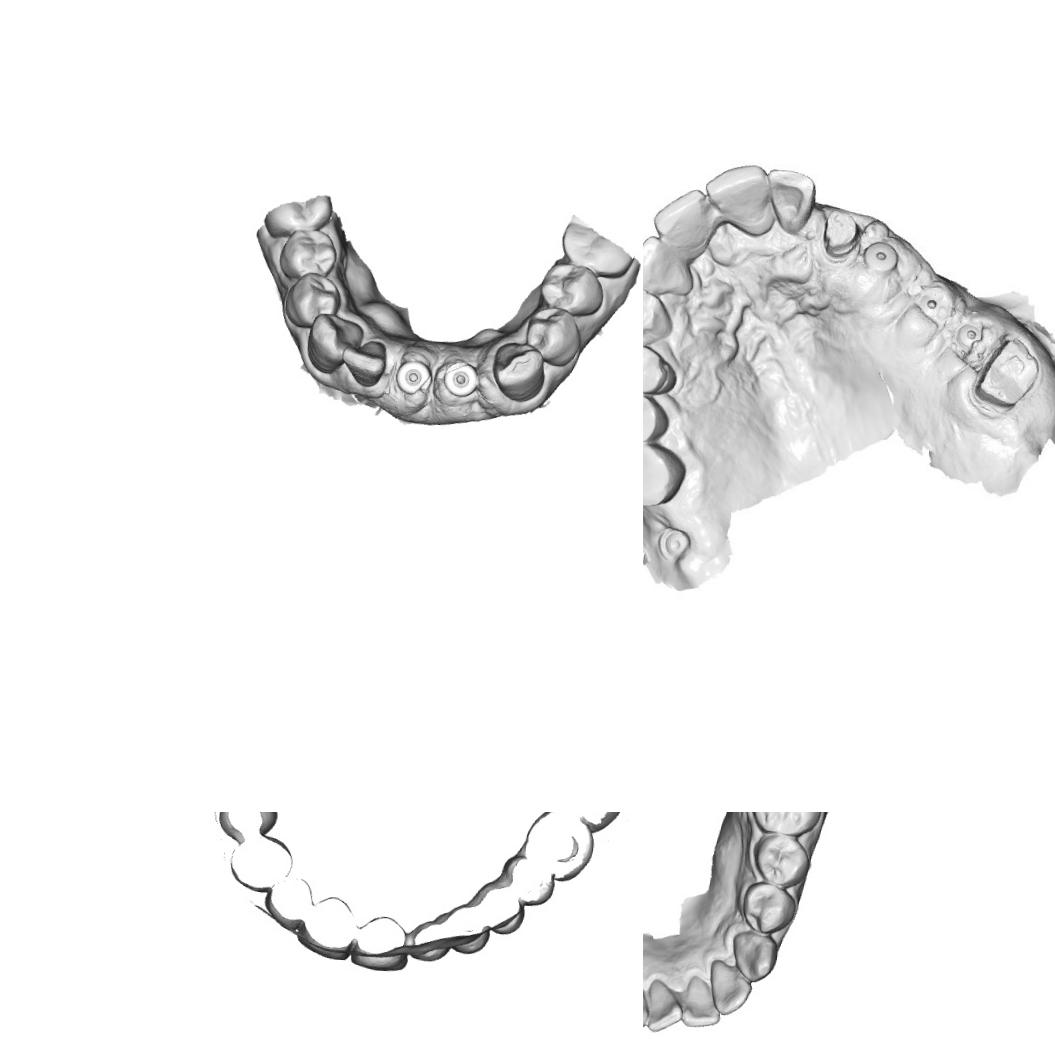canine: (302, 310, 366, 374), (488, 338, 548, 405), (728, 927, 779, 984), (643, 288, 675, 346)
crown: (972, 333, 1045, 412), (816, 204, 868, 258)
implant: (909, 280, 957, 324), (394, 354, 436, 399), (950, 316, 994, 354), (440, 358, 480, 399), (656, 526, 692, 562), (864, 240, 898, 272)
incisor: (698, 154, 776, 230), (646, 184, 716, 255), (764, 168, 816, 234), (643, 232, 691, 298), (706, 957, 754, 1017), (338, 336, 392, 389), (679, 972, 722, 1030), (643, 976, 685, 1034)
molar: (276, 222, 340, 282), (643, 435, 688, 511), (743, 812, 826, 838)
premolar: (536, 258, 606, 318), (521, 305, 584, 370), (282, 268, 344, 331), (750, 832, 812, 890), (740, 878, 796, 934), (643, 340, 673, 398), (643, 388, 667, 447)
